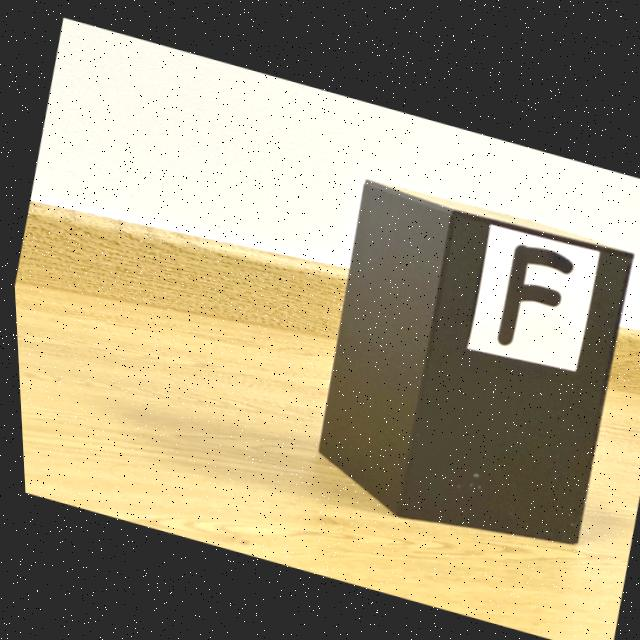F: (493, 239, 570, 340)
